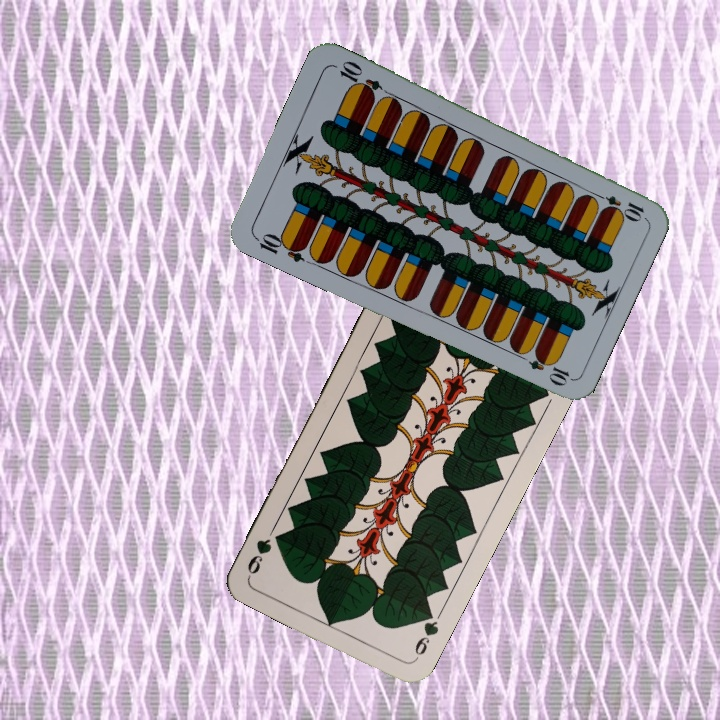E10: (250, 229, 309, 265), (589, 188, 647, 222)
G9: (409, 604, 441, 664)
